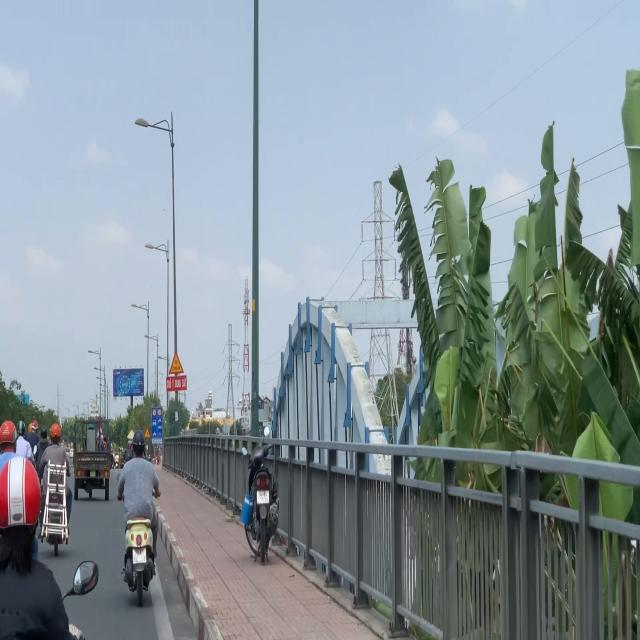Nguy hiem: (168, 351, 184, 375)
Toc do toi da: (152, 408, 157, 416), (157, 408, 162, 416)
